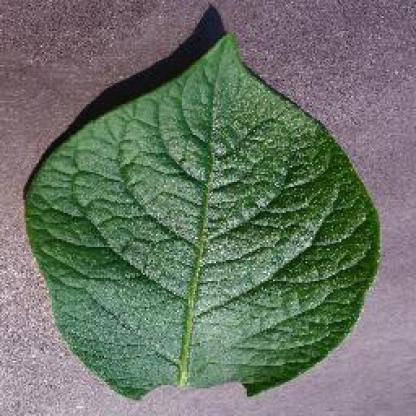good leaf: (45, 72, 340, 371)
